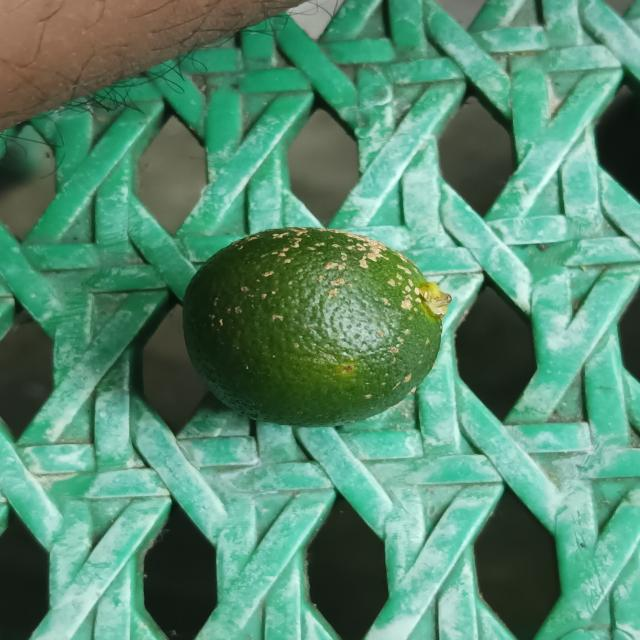scab: (179, 227, 454, 431)
